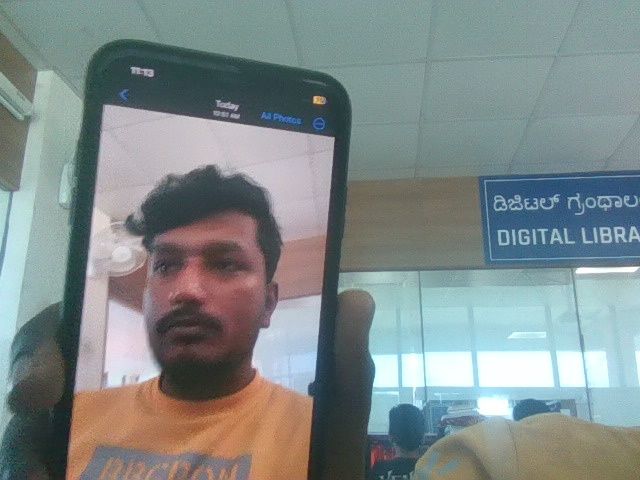fake: (127, 150, 293, 386)
